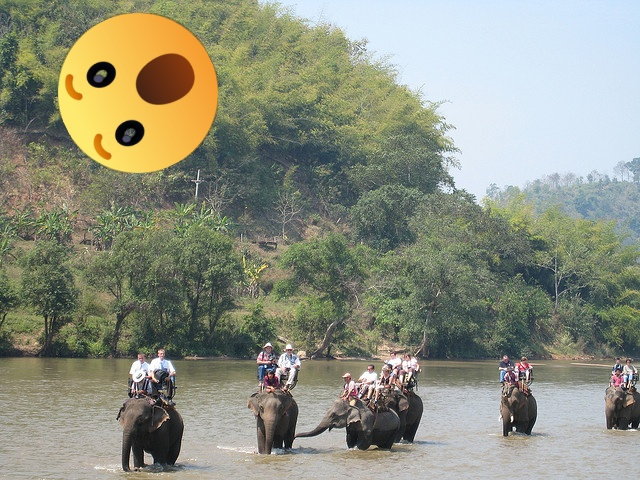wow: (58, 13, 218, 173)
